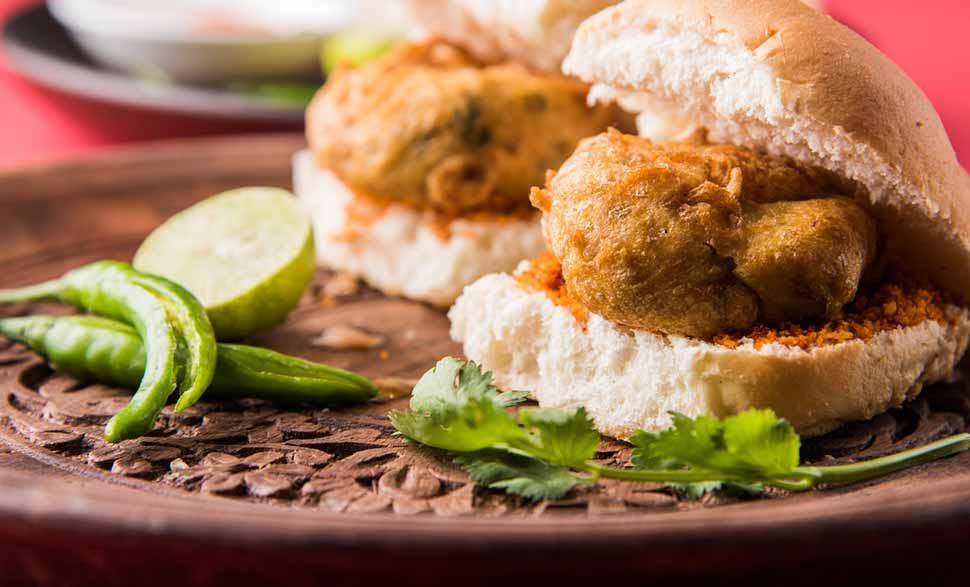vada pav: (530, 6, 877, 427)
